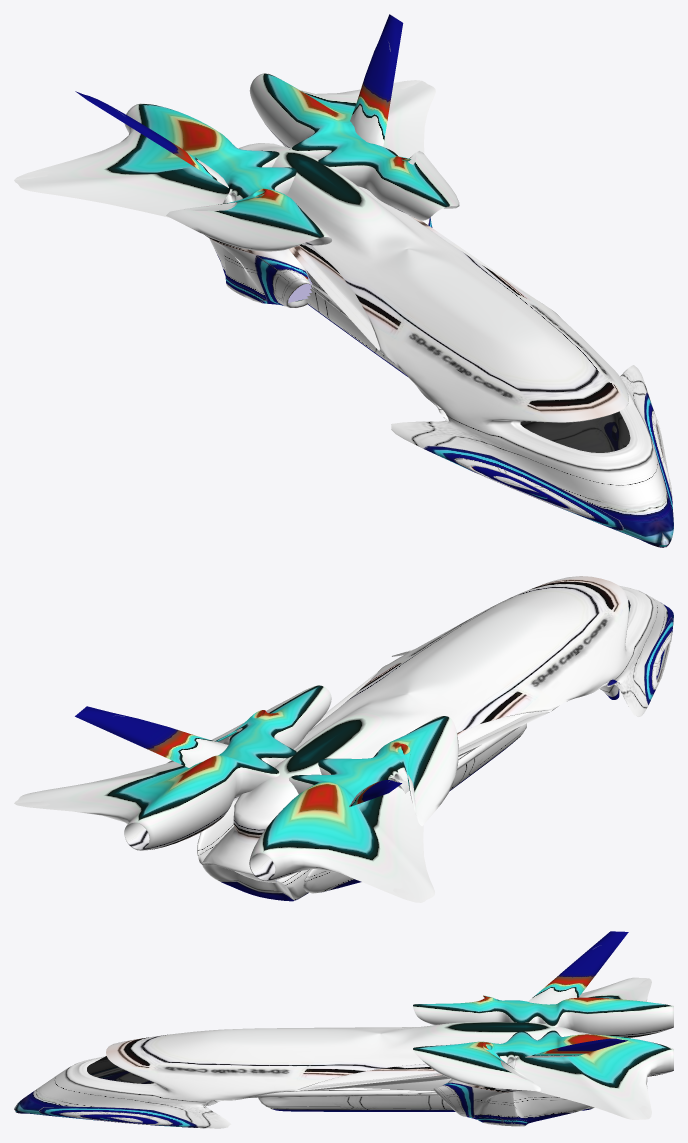
The model's file is sd85_cargo_starship_flying.obj.
3 renders of one model, top to bottom at view 1: azimuth 30°, elevation 25°; view 2: azimuth 150°, elevation 25°; view 3: azimuth 270°, elevation 25°, orthographic. The views are drawn at different scales.
Visible parts, largest first — view 1: mesh01, object 2; view 2: mesh01; view 3: mesh01, object 2.
Part boxes in pixels (x1=…): mesh01: x1=14, y1=14, x2=673, y2=547; object 2: x1=520, y1=411, x2=630, y2=452; mesh01: x1=14, y1=576, x2=673, y2=902; mesh01: x1=14, y1=931, x2=673, y2=1128; object 2: x1=87, y1=1056, x2=153, y2=1083.
Bounding box in the file's own units: 263 × 108 × 514.
Materials: 5 (2 with a texture image).
